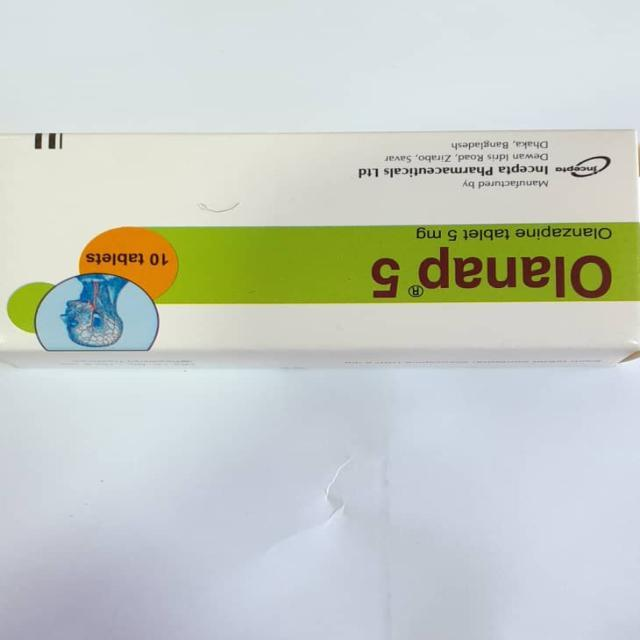drug-name: (370, 244, 618, 302)
